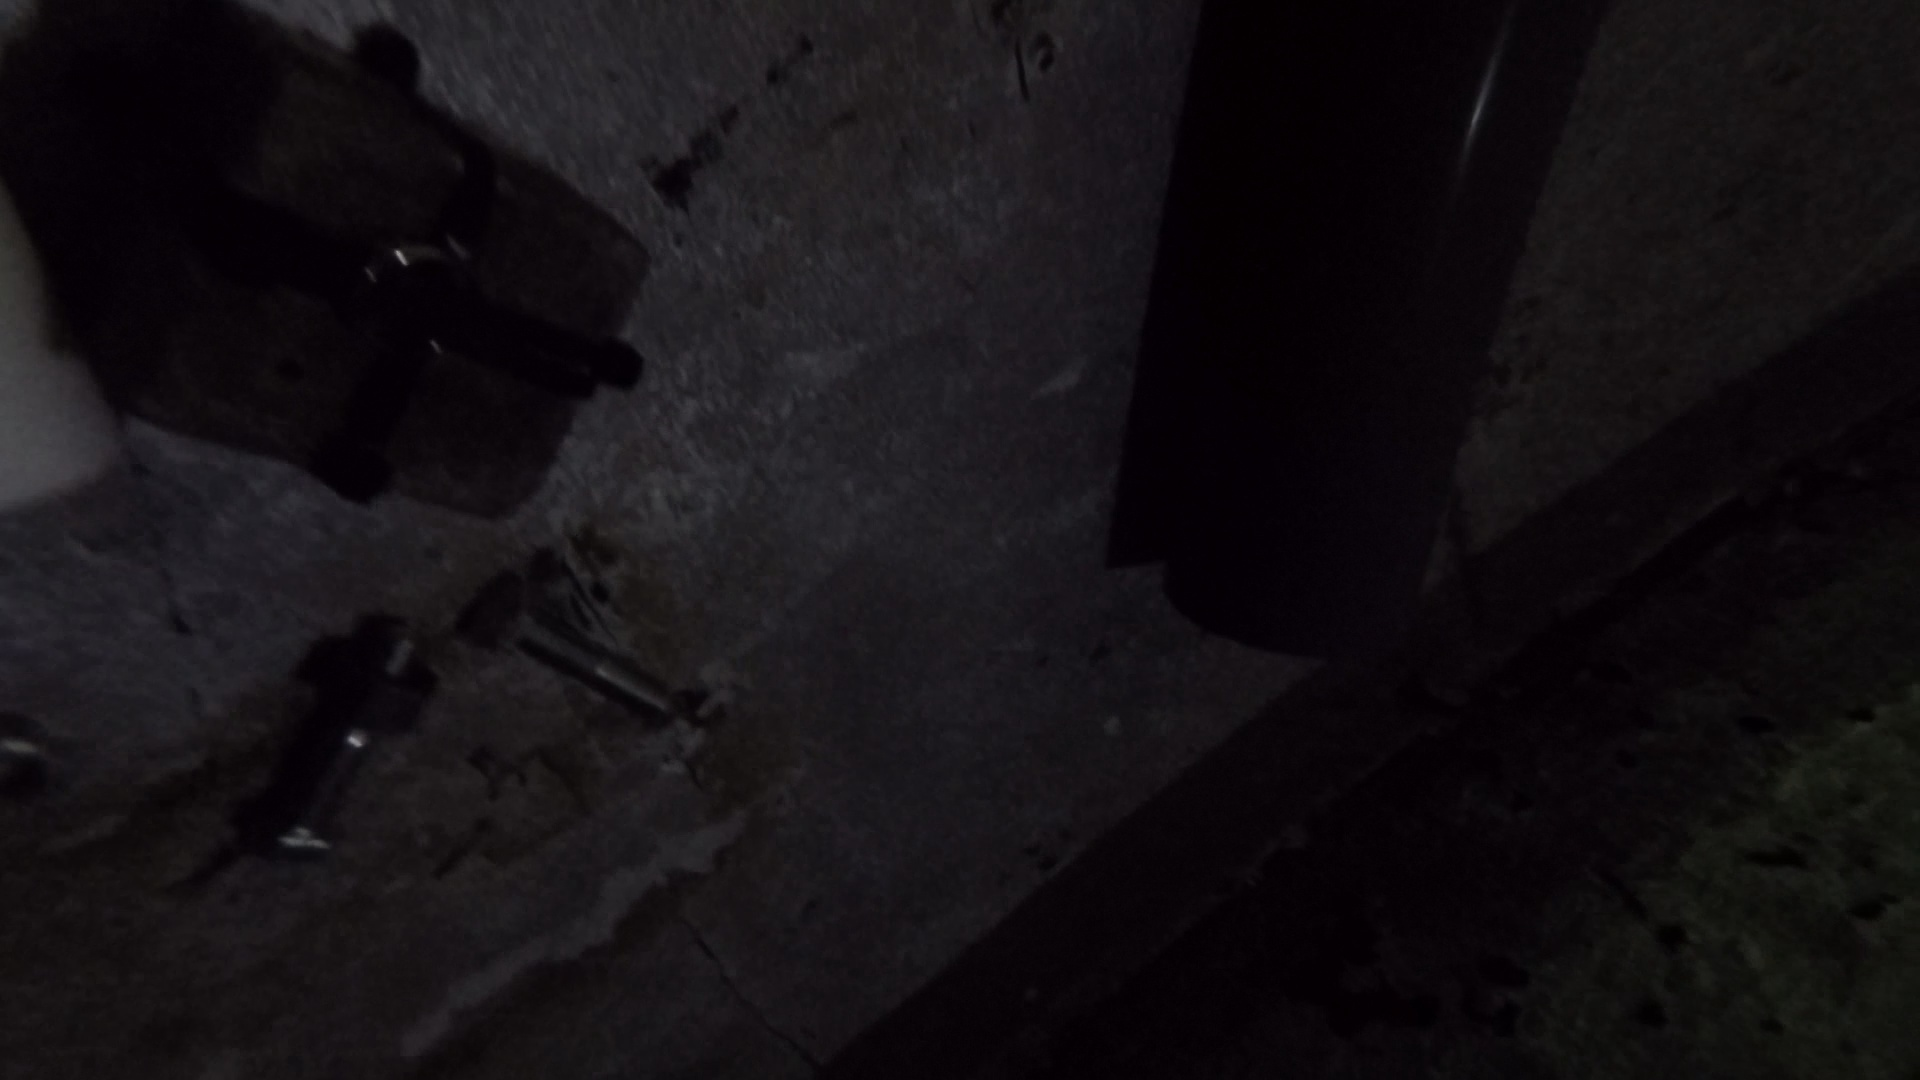bolt: (233, 621, 427, 865), (458, 564, 671, 721)
led_block: (8, 1, 650, 522)
nut: (291, 632, 438, 733)
pipe: (1160, 1, 1610, 671), (1, 202, 123, 520)
